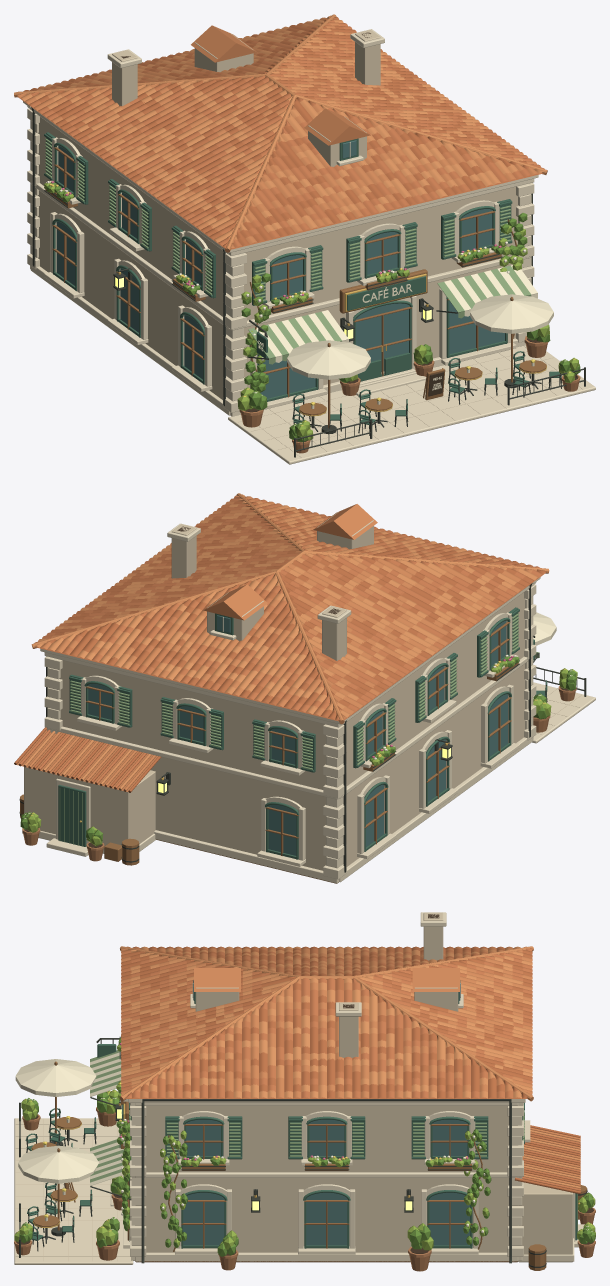
File: SM_CafeBar_Blockout.fbx
3 views of the same model, one above another, from view 1: azimuth 30°, elevation 25°; view 2: azimuth 150°, elevation 25°; view 3: azimuth 270°, elevation 25° (orthographic). The views are drawn at different scales.
Parts seen in each view (by area): view 1: EXPORT_Barrel tiles slope 4, EXPORT_Barrel tiles slope 1, EXPORT_Terrace stone platform, EXPORT_Upper plaster volume, EXPORT_Barrel tiles slope 2, EXPORT_Ground left wall, EXPORT_Barrel tiles slope 3, EXPORT_F arched door glazing, EXPORT_Canvas parasol canopy, EXPORT_Canvas parasol canopy.001, EXPORT_Side stone band, EXPORT_Dormer gable.001 (+25 smaller); view 2: EXPORT_Barrel tiles slope 4, EXPORT_Barrel tiles slope 3, EXPORT_Upper plaster volume, EXPORT_Barrel tiles slope 2, EXPORT_Ground rear wall, EXPORT_Ground left wall, EXPORT_Service annex, EXPORT_Barrel tiles slope 1, EXPORT_Service lean to roof, EXPORT_Horizontal stone band.003, EXPORT_Horizontal stone band.001, EXPORT_Service green door (+25 smaller); view 3: EXPORT_Barrel tiles slope 2, EXPORT_Ground right wall, EXPORT_Upper plaster volume, EXPORT_Barrel tiles slope 3, EXPORT_Barrel tiles slope 1, EXPORT_Terrace stone platform, EXPORT_Barrel tiles slope 4, EXPORT_Service annex, EXPORT_Side stone band.001, EXPORT_Canvas parasol canopy, EXPORT_Canvas parasol canopy.001, EXPORT_Side stone band.003 (+23 smaller).
Part boxes in pixels (x1=…): EXPORT_Barrel tiles slope 4: x1=16, y1=75, x2=292, y2=247; EXPORT_Barrel tiles slope 1: x1=230, y1=97, x2=543, y2=248; EXPORT_Terrace stone platform: x1=228, y1=345, x2=595, y2=464; EXPORT_Upper plaster volume: x1=38, y1=117, x2=518, y2=320; EXPORT_Barrel tiles slope 2: x1=269, y1=16, x2=544, y2=169; EXPORT_Ground left wall: x1=38, y1=190, x2=223, y2=399; EXPORT_Barrel tiles slope 3: x1=18, y1=15, x2=330, y2=91; EXPORT_F arched door glazing: x1=355, y1=303, x2=409, y2=371; EXPORT_Canvas parasol canopy: x1=287, y1=340, x2=370, y2=375; EXPORT_Canvas parasol canopy.001: x1=470, y1=294, x2=553, y2=329; EXPORT_Side stone band: x1=30, y1=266, x2=230, y2=415; EXPORT_Dormer gable.001: x1=191, y1=25, x2=257, y2=62; EXPORT_Barrel tiles slope 4: x1=279, y1=552, x2=546, y2=719; EXPORT_Barrel tiles slope 3: x1=35, y1=573, x2=339, y2=719; EXPORT_Upper plaster volume: x1=59, y1=592, x2=525, y2=789; EXPORT_Barrel tiles slope 2: x1=34, y1=495, x2=301, y2=643; EXPORT_Ground rear wall: x1=150, y1=757, x2=326, y2=879; EXPORT_Ground left wall: x1=329, y1=664, x2=524, y2=882; EXPORT_Service annex: x1=24, y1=767, x2=155, y2=853; EXPORT_Barrel tiles slope 1: x1=241, y1=494, x2=541, y2=568; EXPORT_Service lean to roof: x1=16, y1=729, x2=158, y2=792; EXPORT_Horizontal stone band.003: x1=47, y1=726, x2=338, y2=799; EXPORT_Horizontal stone band.001: x1=154, y1=830, x2=339, y2=883; EXPORT_Service green door: x1=58, y1=785, x2=86, y2=846; EXPORT_Barrel tiles slope 2: x1=125, y1=977, x2=528, y2=1098; EXPORT_Ground right wall: x1=136, y1=1178, x2=515, y2=1261; EXPORT_Upper plaster volume: x1=135, y1=1106, x2=517, y2=1172; EXPORT_Barrel tiles slope 3: x1=357, y1=948, x2=532, y2=1095; EXPORT_Barrel tiles slope 1: x1=121, y1=948, x2=295, y2=1095; EXPORT_Terrace stone platform: x1=14, y1=1118, x2=133, y2=1264; EXPORT_Barrel tiles slope 4: x1=127, y1=946, x2=526, y2=975; EXPORT_Service annex: x1=519, y1=1182, x2=572, y2=1262; EXPORT_Side stone band.001: x1=135, y1=1252, x2=518, y2=1261; EXPORT_Canvas parasol canopy: x1=15, y1=1059, x2=96, y2=1092; EXPORT_Canvas parasol canopy.001: x1=18, y1=1145, x2=98, y2=1179; EXPORT_Side stone band.003: x1=135, y1=1172, x2=518, y2=1177.
Bounding box in the file's own units: 1369 × 2127 × 940.
